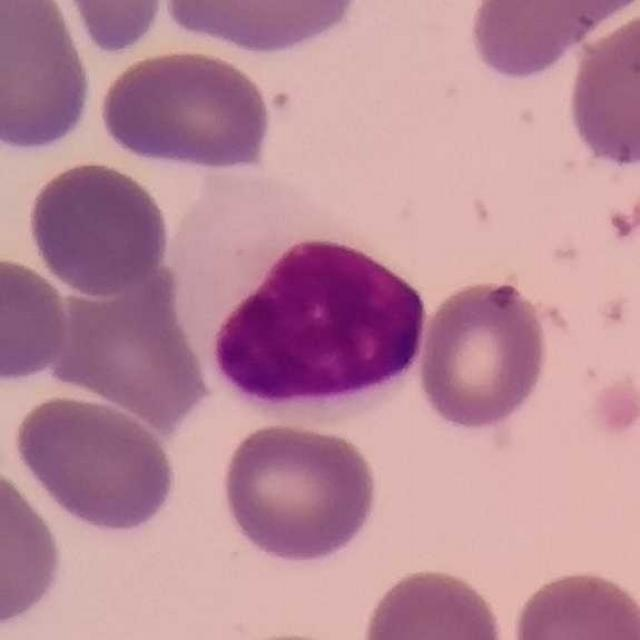Lymphocyte: (165, 150, 434, 422)
RBC: (216, 417, 383, 568), (9, 391, 181, 536), (49, 277, 213, 428), (96, 46, 276, 172), (413, 274, 553, 434), (23, 157, 174, 299), (0, 1, 96, 157), (462, 0, 640, 83), (563, 6, 640, 172), (157, 0, 366, 58), (356, 562, 511, 640), (0, 460, 67, 634), (507, 565, 639, 640), (0, 251, 72, 388), (36, 0, 177, 58)
